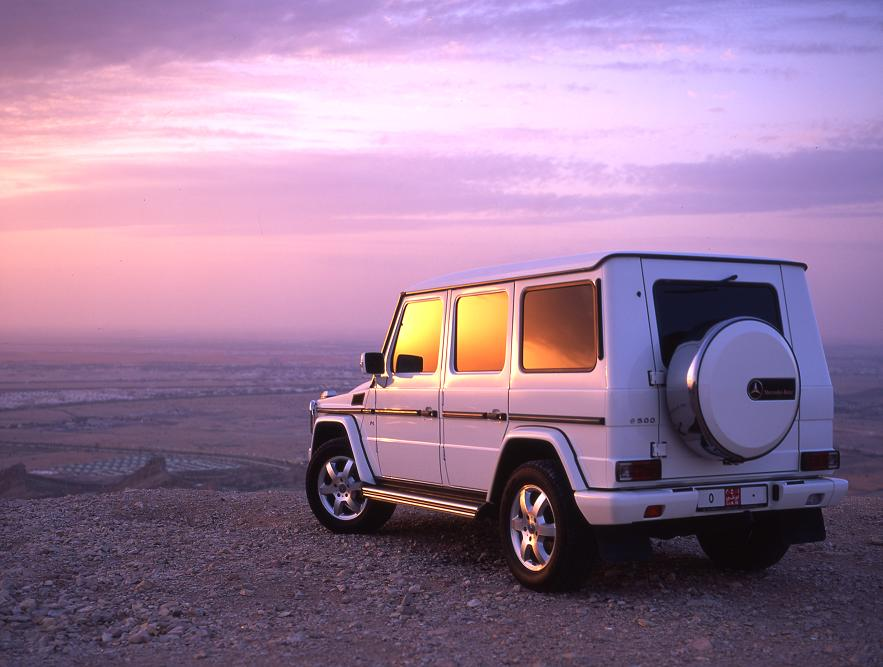car: (308, 258, 852, 581)
